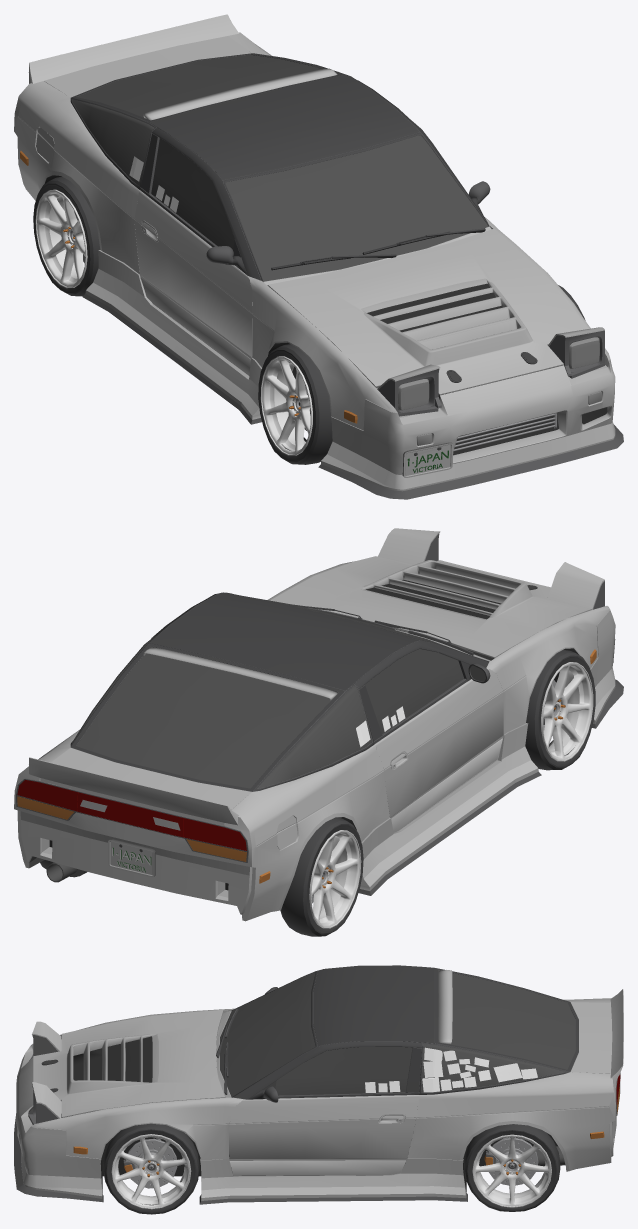
File: car.glb
3 views of the same model, one above another, from view 1: azimuth 30°, elevation 25°; view 2: azimuth 150°, elevation 25°; view 3: azimuth 270°, elevation 25° (orthographic). The views are drawn at different scales.
Visible parts, largest first — view 1: Cube.007, Cube.005, Cube.010, Cube.034, Cube.013, Cube.004, Cube.009, Cube.002, Cylinder.007, Cylinder.017, Cylinder.006, Cube.032 (+10 smaller); view 2: Cube.007, Cube.004, Cube.005, Cube.013, Cube.034, Cube.009, Cube.002, Cylinder.007, Cylinder.017, Cylinder.016, Cube.019, Cylinder.006 (+10 smaller); view 3: Cube.007, Cube.013, Cube.005, Cube.004, Cube.034, Cube.009, Cube.010, Cylinder.007, Cylinder.017, Cylinder.006, Cylinder.016, Cube.032 (+13 smaller).
Part boxes in pixels (x1,y1,x2,y2): Cube.007: (14, 32, 610, 455); Cube.005: (267, 228, 587, 395); Cube.010: (318, 359, 623, 499); Cube.034: (149, 74, 419, 180); Cube.013: (134, 138, 487, 374); Cube.004: (44, 36, 338, 120); Cube.009: (82, 250, 261, 424); Cube.002: (28, 14, 238, 83); Cylinder.007: (260, 356, 312, 455); Cylinder.017: (35, 189, 87, 288); Cylinder.006: (258, 285, 585, 464); Cube.032: (152, 79, 488, 280); Cube.007: (14, 561, 610, 921); Cube.004: (40, 647, 338, 825); Cube.005: (270, 556, 591, 658); Cube.013: (365, 649, 503, 832); Cube.034: (149, 592, 419, 690); Cube.009: (358, 723, 541, 895); Cube.002: (29, 757, 238, 825); Cylinder.007: (541, 662, 593, 761); Cylinder.017: (309, 830, 361, 928); Cylinder.016: (40, 817, 363, 936); Cube.019: (378, 528, 604, 609); Cylinder.006: (525, 649, 595, 770); Cube.007: (31, 972, 620, 1192); Cube.013: (229, 1047, 419, 1175); Cube.005: (33, 1009, 225, 1117); Cube.004: (438, 970, 612, 1073); Cube.034: (313, 965, 434, 1046); Cube.009: (199, 1157, 467, 1204); Cube.010: (14, 1045, 103, 1202); Cylinder.007: (111, 1134, 191, 1209); Cylinder.017: (472, 1134, 551, 1207); Cylinder.006: (103, 1123, 199, 1214); Cylinder.016: (464, 1124, 560, 1211); Cube.032: (233, 965, 422, 1099).
Bounding box in the file's own units: 1.97 × 1.3 × 4.52.
